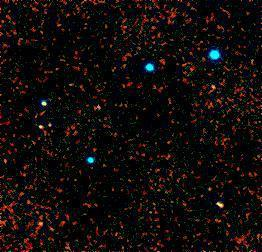star: (31, 104, 61, 134)
